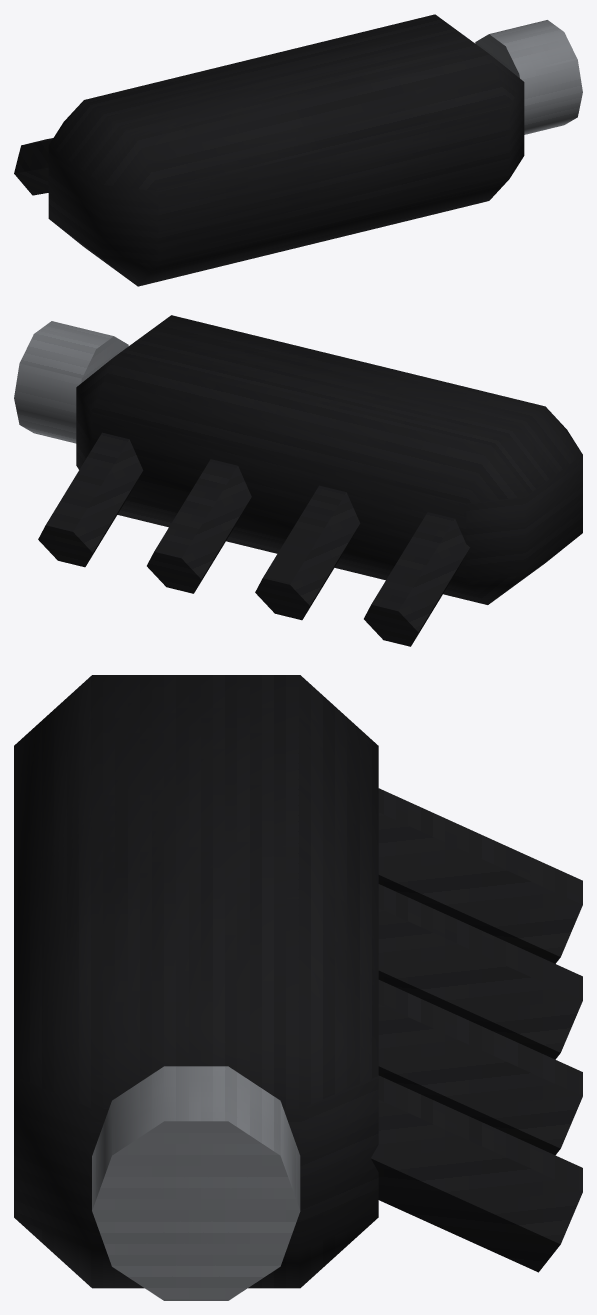
The model's file is compressor_fabrica.glb.
3 renders of one model, top to bottom at view 1: azimuth 30°, elevation 25°; view 2: azimuth 150°, elevation 25°; view 3: azimuth 270°, elevation 25°, orthographic. The views are drawn at different scales.
Parts seen in each view (by area): view 1: compressor_fabrica; view 2: compressor_fabrica; view 3: compressor_fabrica.
Part boxes in pixels (x1,y1,x2,y2): compressor_fabrica: (14, 14, 582, 286); compressor_fabrica: (14, 315, 582, 646); compressor_fabrica: (14, 675, 582, 1300).
Bounding box in the file's own units: 0.41 × 0.12 × 0.2185.
1 material, 1 textured.
